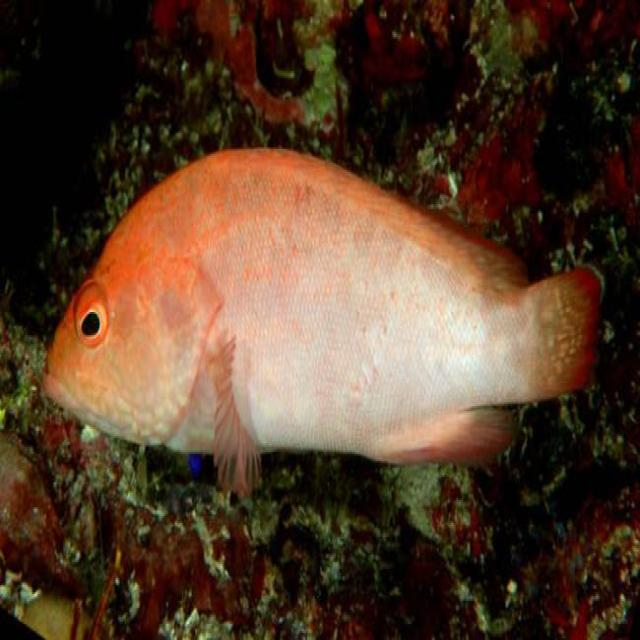ikan: (41, 142, 604, 500)
